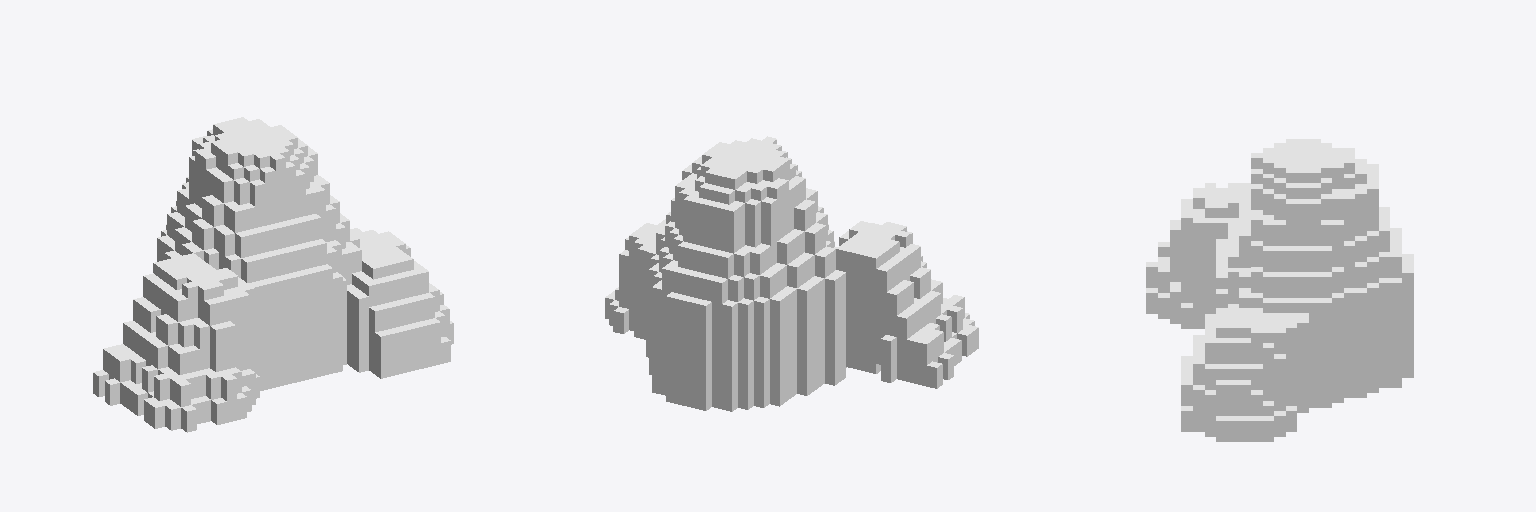
Rendered from iwa_hiroppe.vox.obj.
3 views of the same model, side by side, from view 1: azimuth 30°, elevation 25°; view 2: azimuth 150°, elevation 25°; view 3: azimuth 270°, elevation 25° (orthographic).
Visible parts, largest first — view 1: object 1; view 2: object 1; view 3: object 1.
Part boxes in pixels (x1,y1,x2,y2): object 1: (93,117,453,432); object 1: (605,136,978,411); object 1: (1146,139,1413,441).
Bounding box in the file's own units: 3.3 × 2 × 2.3.